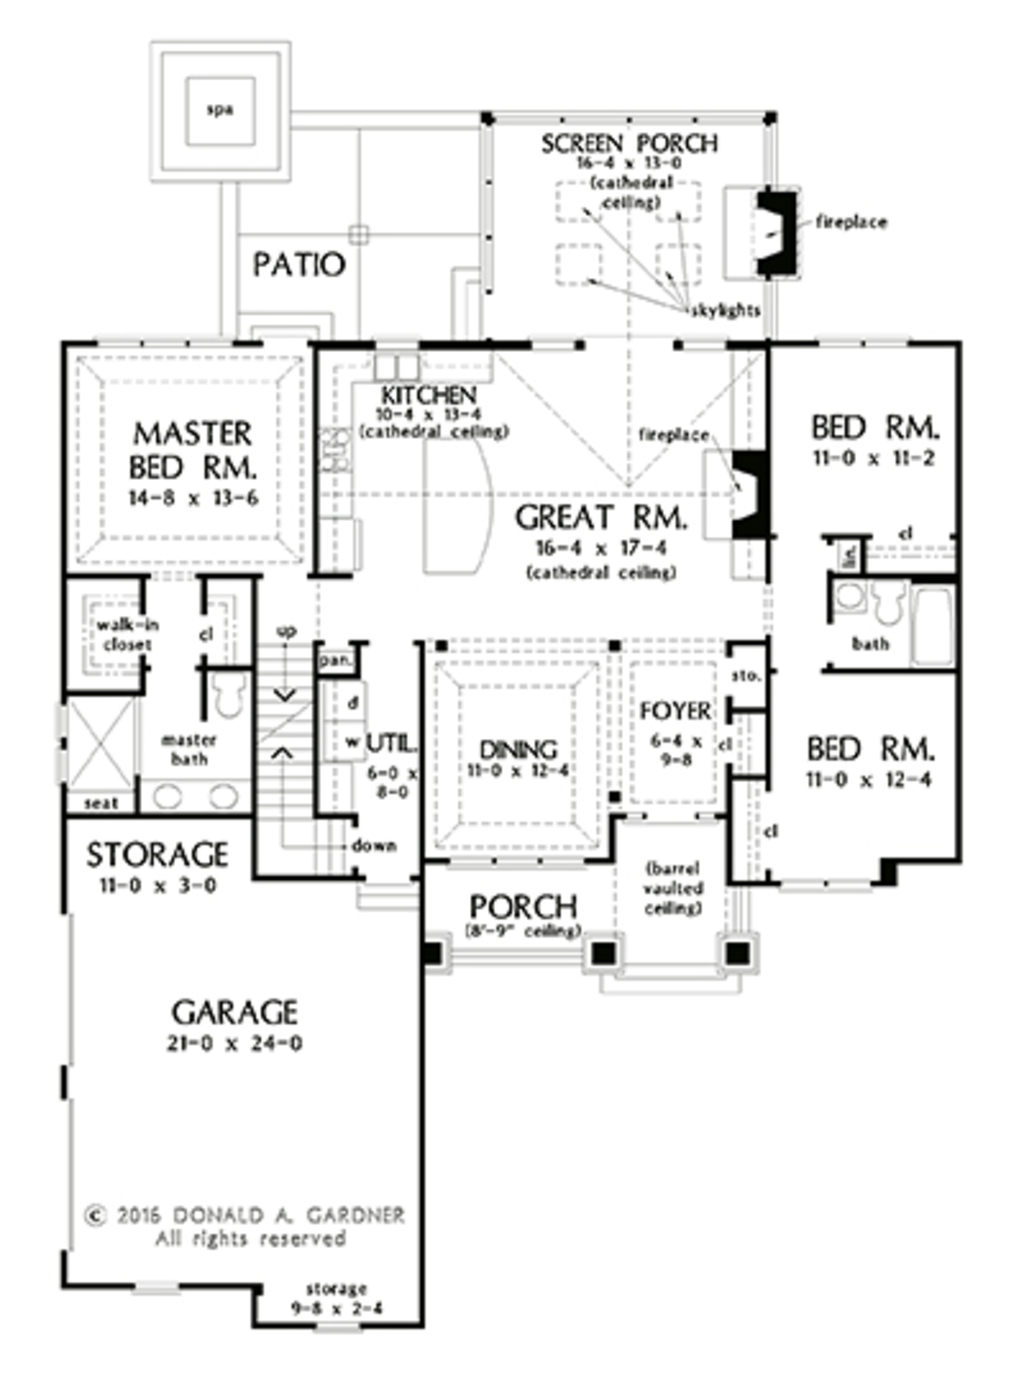kitchen_bar: (403, 426, 507, 581)
large_sink: (194, 660, 252, 720), (873, 562, 909, 641)
small_sink: (137, 781, 256, 824), (828, 564, 865, 620)
stairs: (262, 643, 365, 873)
tub: (907, 573, 959, 677)
twin_sink: (362, 324, 439, 398)
window: (758, 857, 888, 896), (101, 328, 256, 360), (54, 696, 82, 807), (311, 1300, 371, 1349), (807, 330, 920, 351), (103, 1271, 180, 1294)
